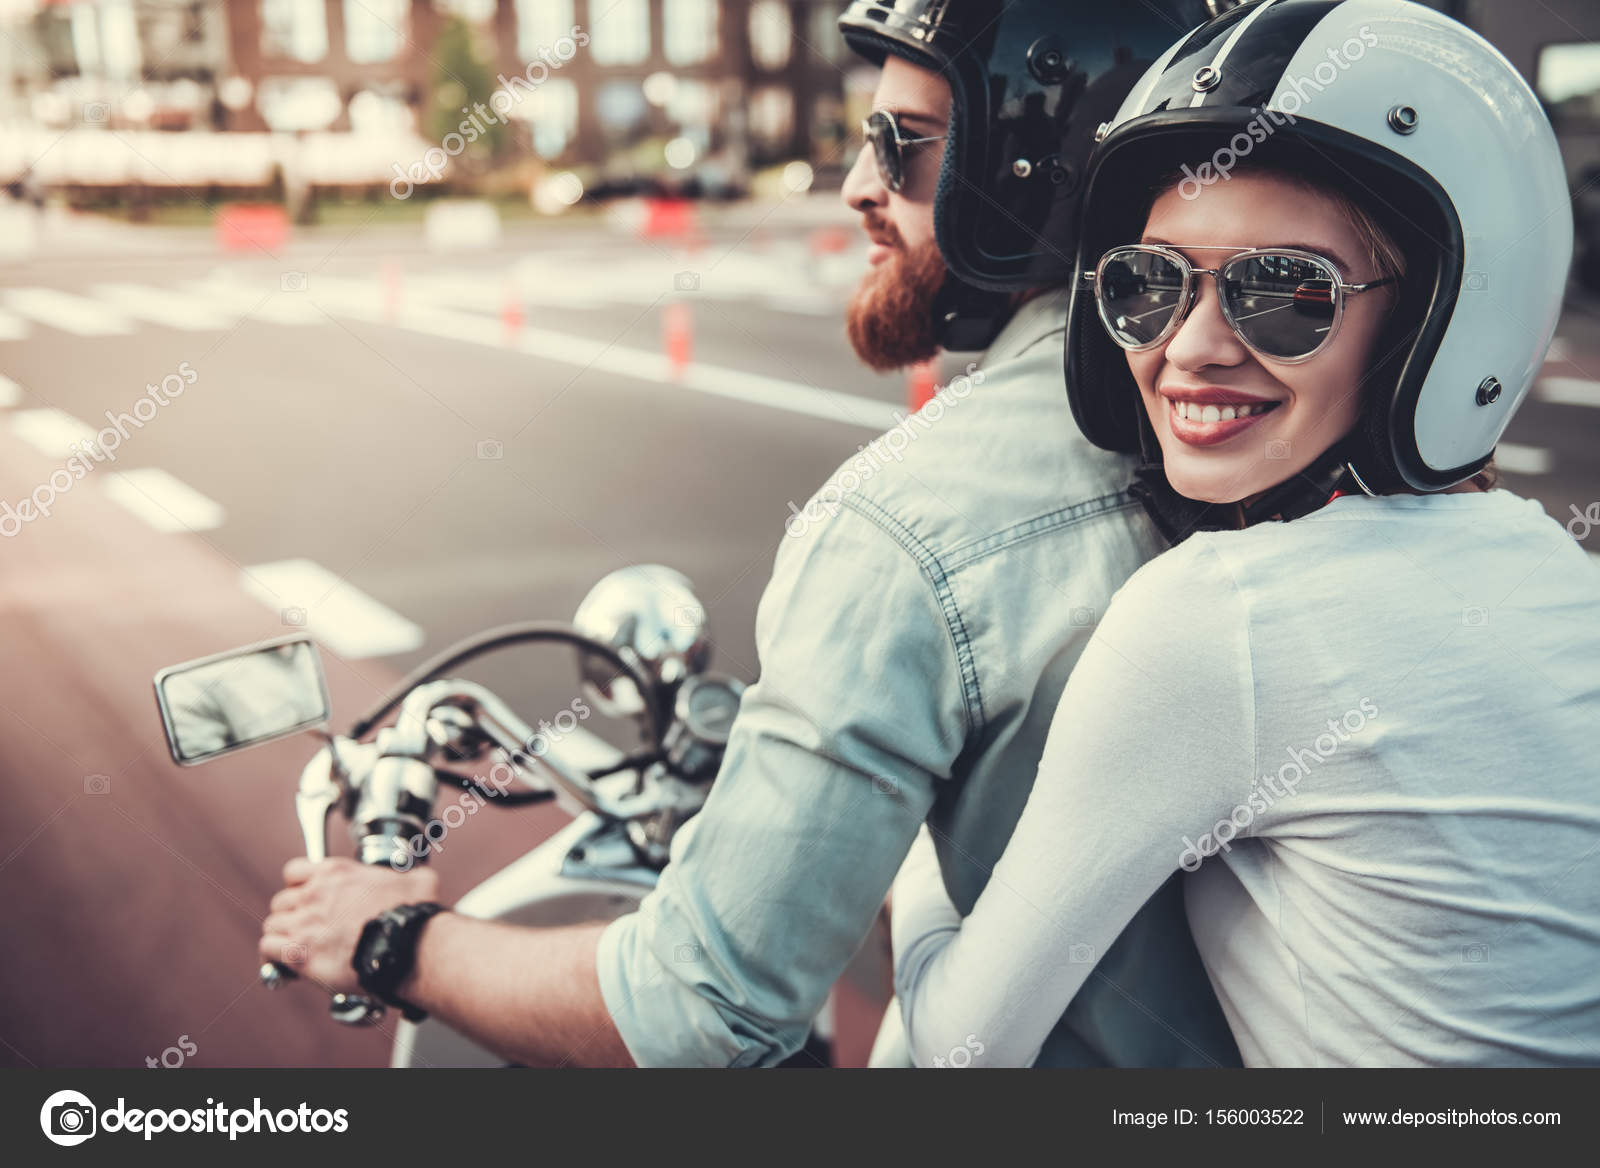helmet: (1089, 22, 1576, 449)
